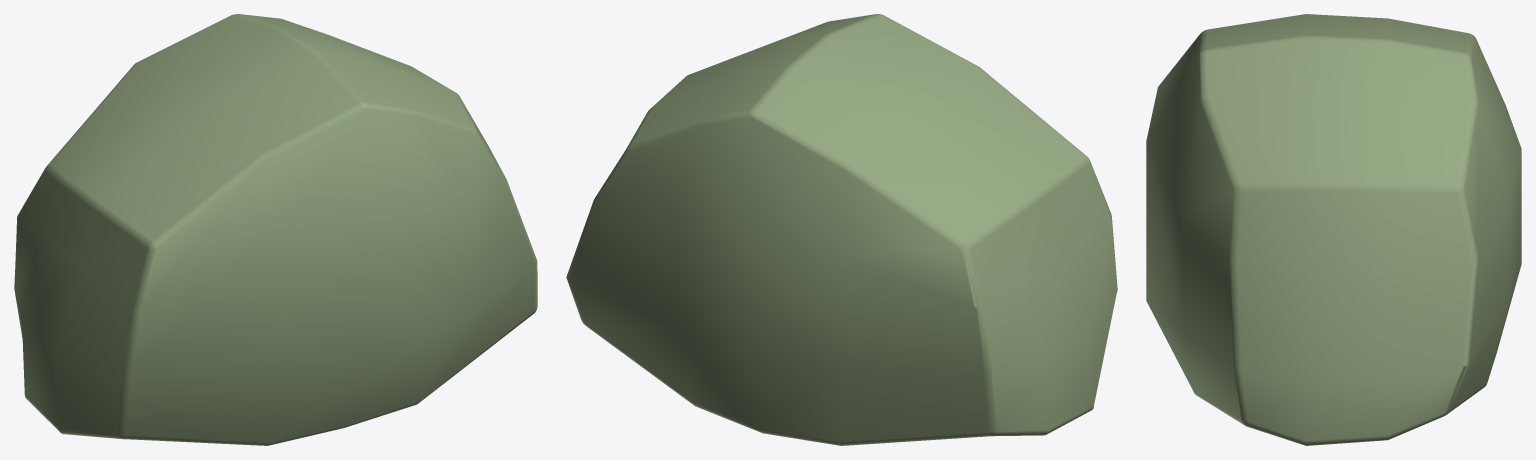
File: PlantOneDark.fbx
3 renders of one model, left to right at view 1: azimuth 30°, elevation 25°; view 2: azimuth 150°, elevation 25°; view 3: azimuth 270°, elevation 25°, orthographic. The views are drawn at different scales.
Visible parts, largest first — view 1: PlantOneDark; view 2: PlantOneDark; view 3: PlantOneDark.
Boxes of the visible parts, bbox=[...] form: PlantOneDark: bbox=[14, 14, 537, 445]; PlantOneDark: bbox=[566, 14, 1117, 445]; PlantOneDark: bbox=[1146, 14, 1521, 445].
Size of the model in its own units: 1.81 by 1.27 by 1.21.
